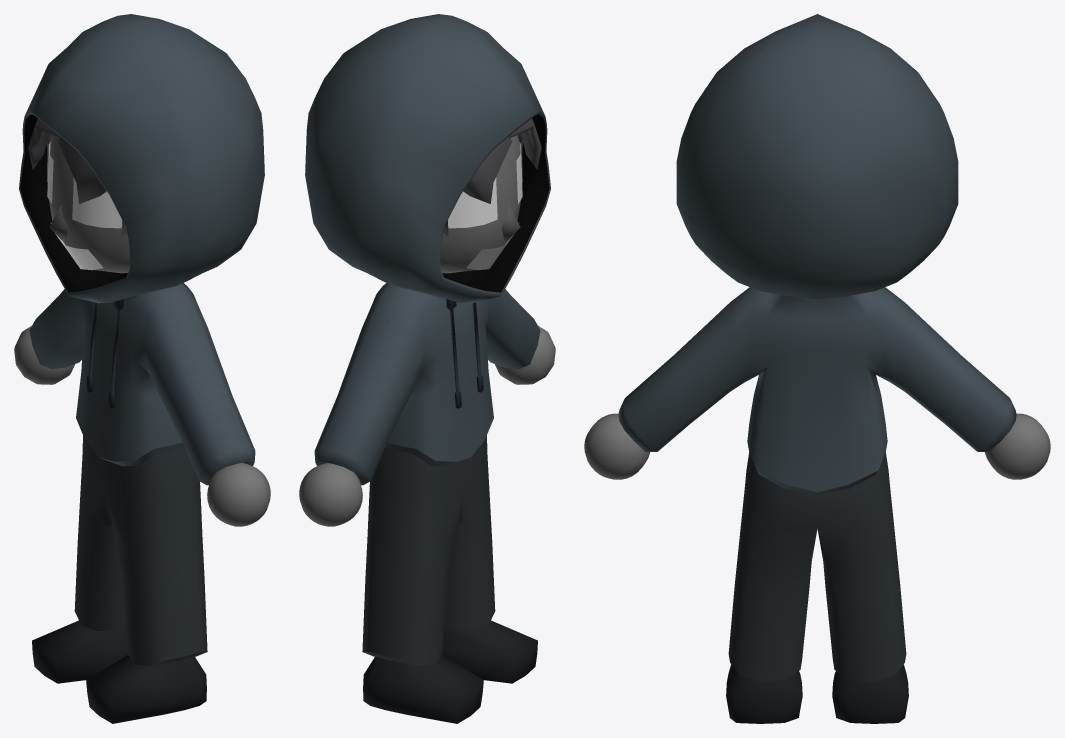
The model's file is Hooded guy.fbx.
3 views of the same model, side by side, from view 1: azimuth 30°, elevation 25°; view 2: azimuth 150°, elevation 25°; view 3: azimuth 270°, elevation 25° (orthographic). The views are drawn at different scales.
Visible parts, largest first — view 1: Hooded guy, eyes + mouth card; view 2: Hooded guy, eyes + mouth card; view 3: Hooded guy.
Part boxes in pixels (box(x1,y1,x2,y2)): Hooded guy: box(14, 14, 270, 723); eyes + mouth card: box(47, 142, 121, 270); Hooded guy: box(299, 14, 555, 723); eyes + mouth card: box(448, 142, 522, 270); Hooded guy: box(584, 14, 1050, 723).
Size of the model in its own units: 103 by 183 by 295.
1 material, 1 textured.
